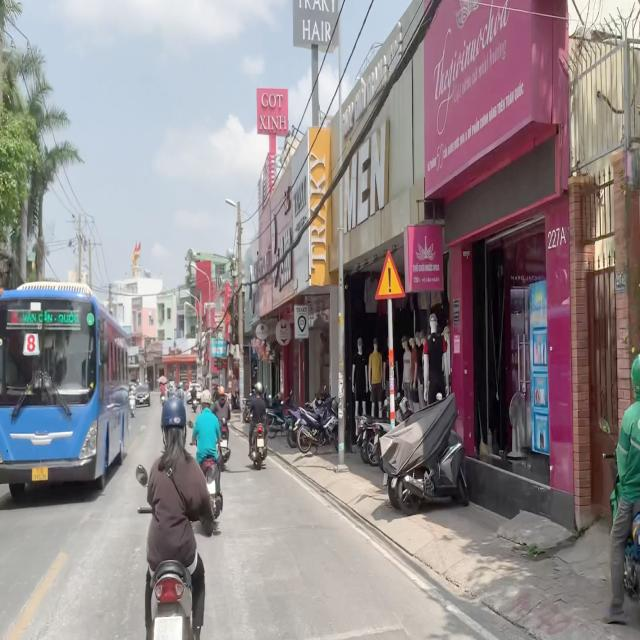Nguy hiem: (374, 248, 406, 302)
